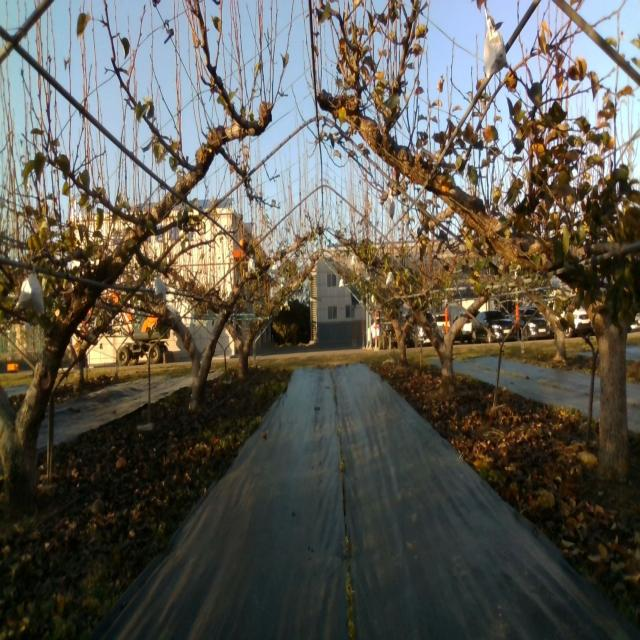pearbags: (483, 18, 511, 81), (16, 272, 45, 316), (155, 278, 167, 302)
